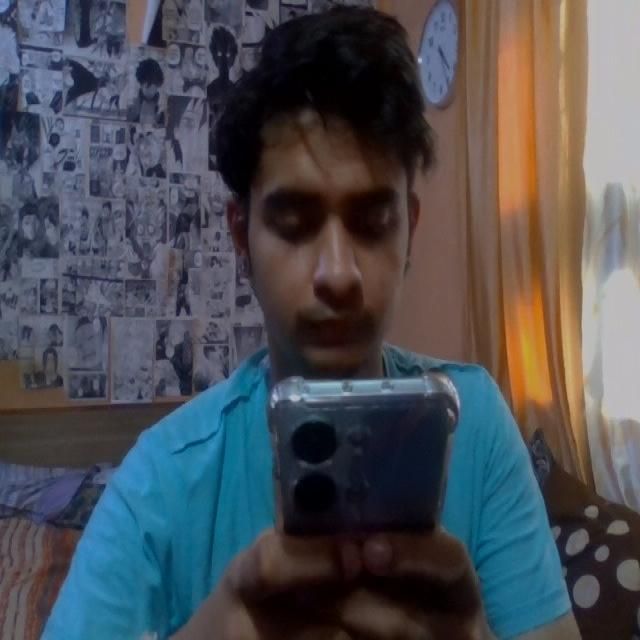phone: (266, 376, 451, 572)
using-phone: (32, 14, 603, 640)
